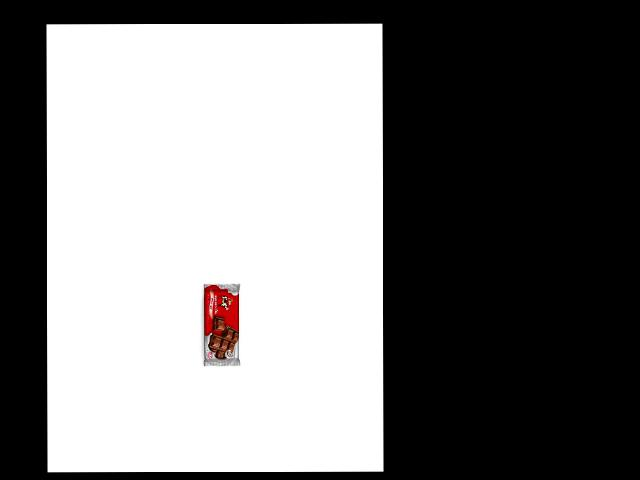chocolate: (203, 282, 240, 368)
